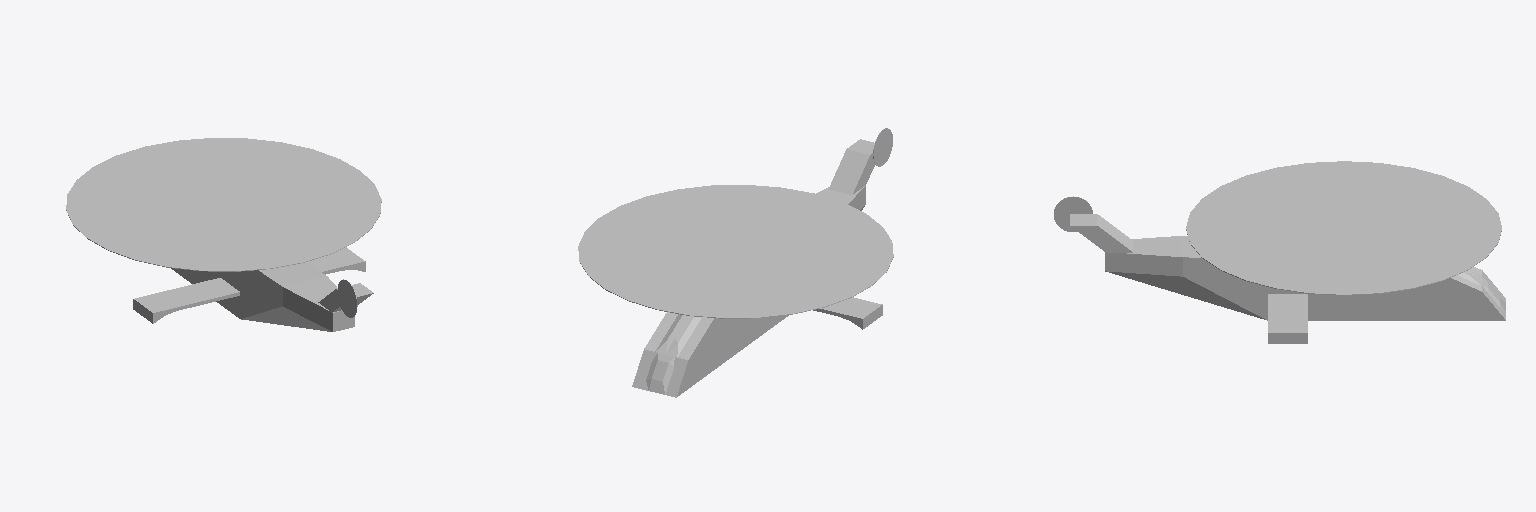
File: Hind.obj
The picture shows the model from 3 angles: view 1: azimuth 30°, elevation 25°; view 2: azimuth 150°, elevation 25°; view 3: azimuth 270°, elevation 25°; orthographic projection.
Visible parts, largest first — view 1: Hind; view 2: Hind; view 3: Hind.
Boxes of the visible parts, x1=… form: Hind: x1=66, y1=138, x2=381, y2=331; Hind: x1=578, y1=128, x2=893, y2=397; Hind: x1=1054, y1=161, x2=1505, y2=343.
Bounding box in the file's own units: 4 × 1.5 × 5.72.